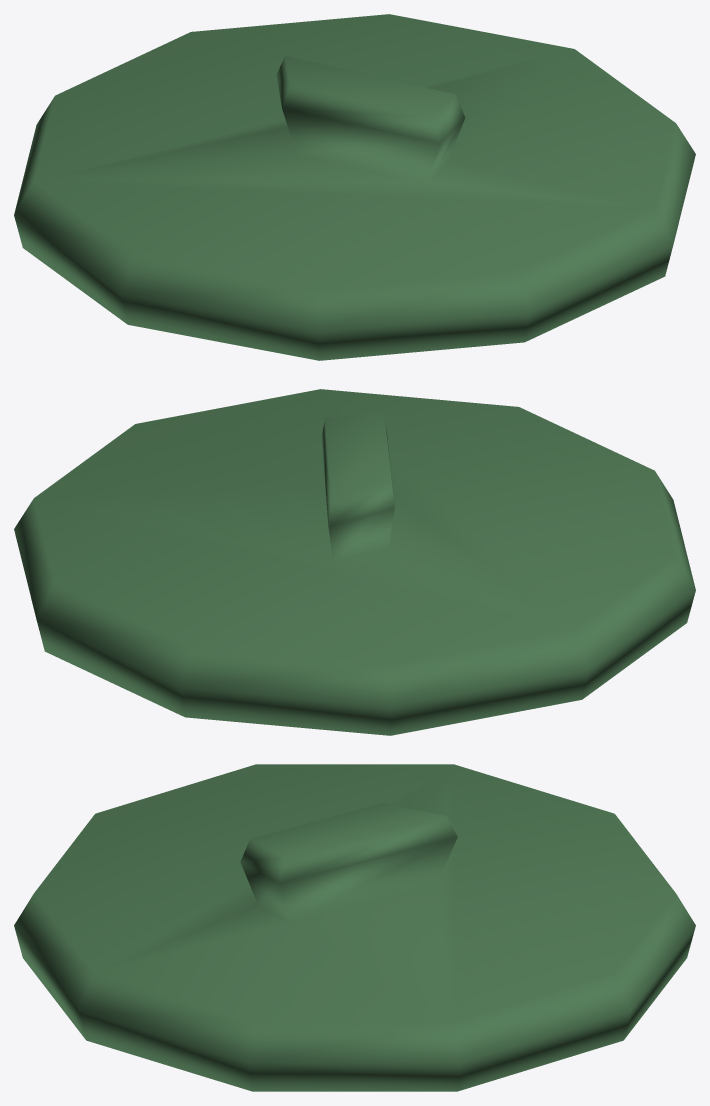
Rendered from garbagecanlid.fbx.
3 renders of one model, top to bottom at view 1: azimuth 30°, elevation 25°; view 2: azimuth 150°, elevation 25°; view 3: azimuth 270°, elevation 25°, orthographic. The views are drawn at different scales.
Visible parts, largest first — view 1: Cylinder.004; view 2: Cylinder.004; view 3: Cylinder.004.
Boxes of the visible parts, bbox=[...] form: Cylinder.004: bbox=[14, 14, 695, 360]; Cylinder.004: bbox=[14, 389, 695, 735]; Cylinder.004: bbox=[14, 764, 695, 1091].
Bounding box in the file's own units: 219 × 48.8 × 230.
